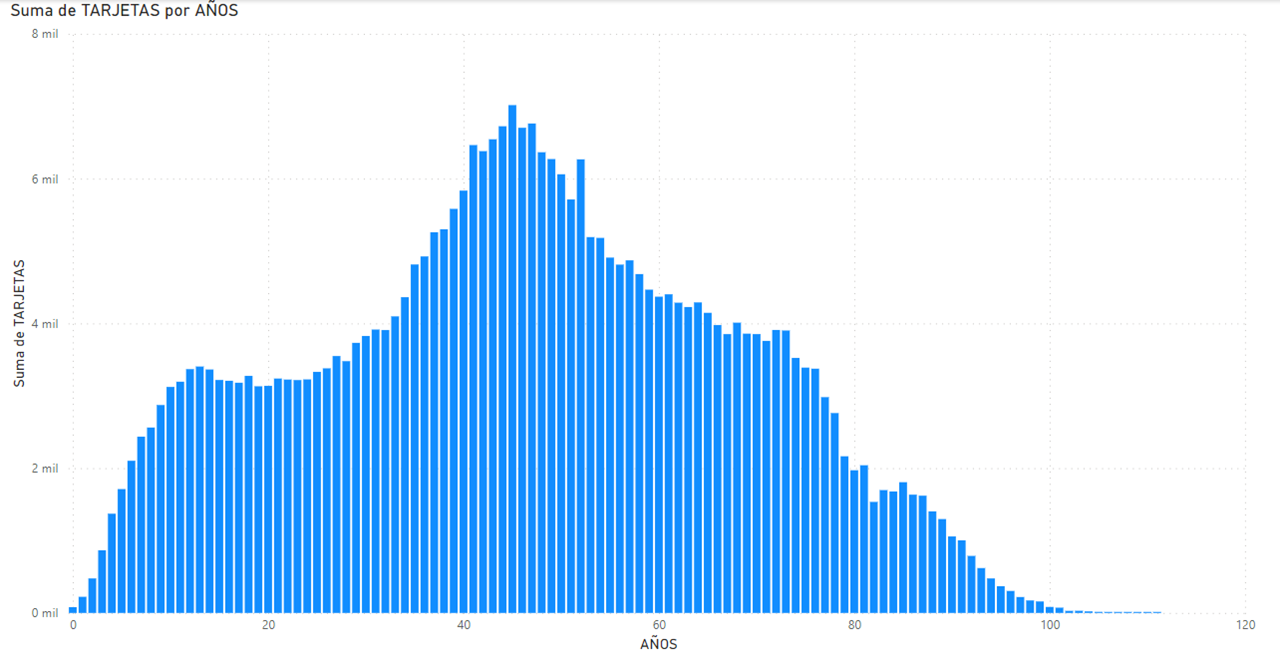

Layout of this report page (visuals, bound fields, positions):
{"tool":"powerbi","page":{"name":"Página 1","canvas":[1280,720],"ordinal":0},"visuals":[{"type":"clusteredColumnChart","fields":{"Category":["34.AÑOS"],"Y":["Sum(34.TARJETAS)"]},"box":[9.7,0,1225.5,641],"z":0}]}

Visuals, with their boxes on the page's 1280x720 design canvas (x1, y1, x2, y2). These are canvas units, not pixel positions in the 1280x656 screenshot, which may show the page scaled, cropped or inside an application window:
clusteredColumnChart - 34.AÑOS x Sum(34.TARJETAS): (x1=10, y1=0, x2=1235, y2=641)
